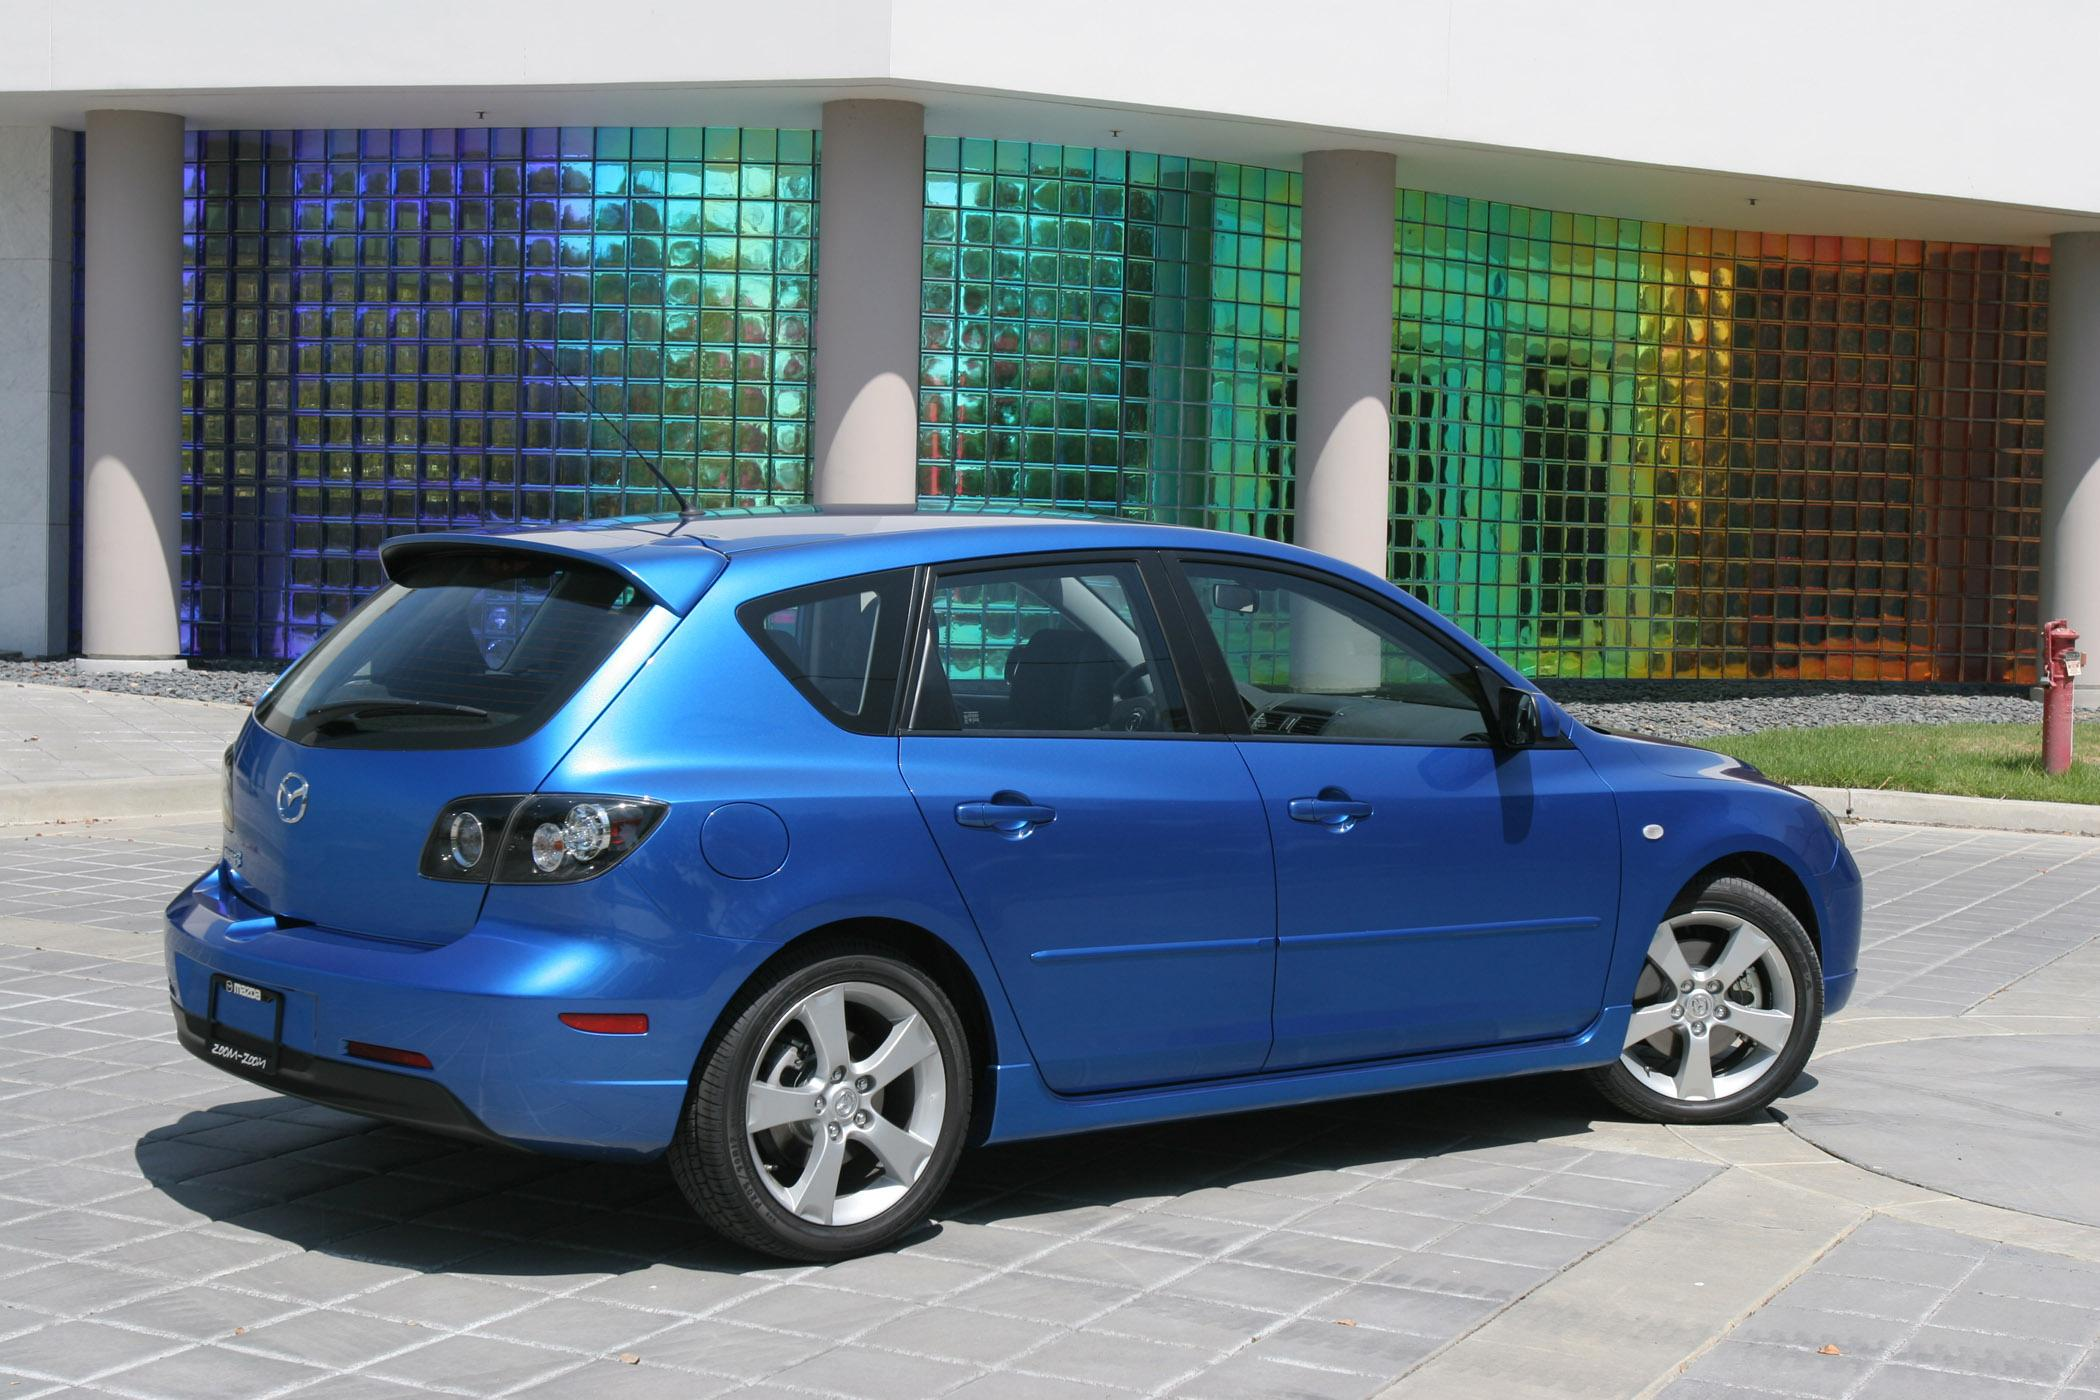Mazda3 Hatchback: (159, 506, 1869, 1269)
